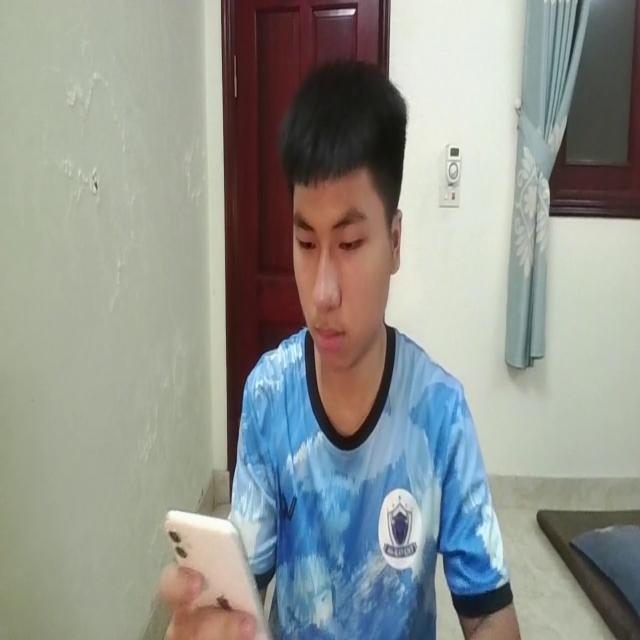phone: (163, 506, 265, 640)
student: (154, 59, 520, 640)
